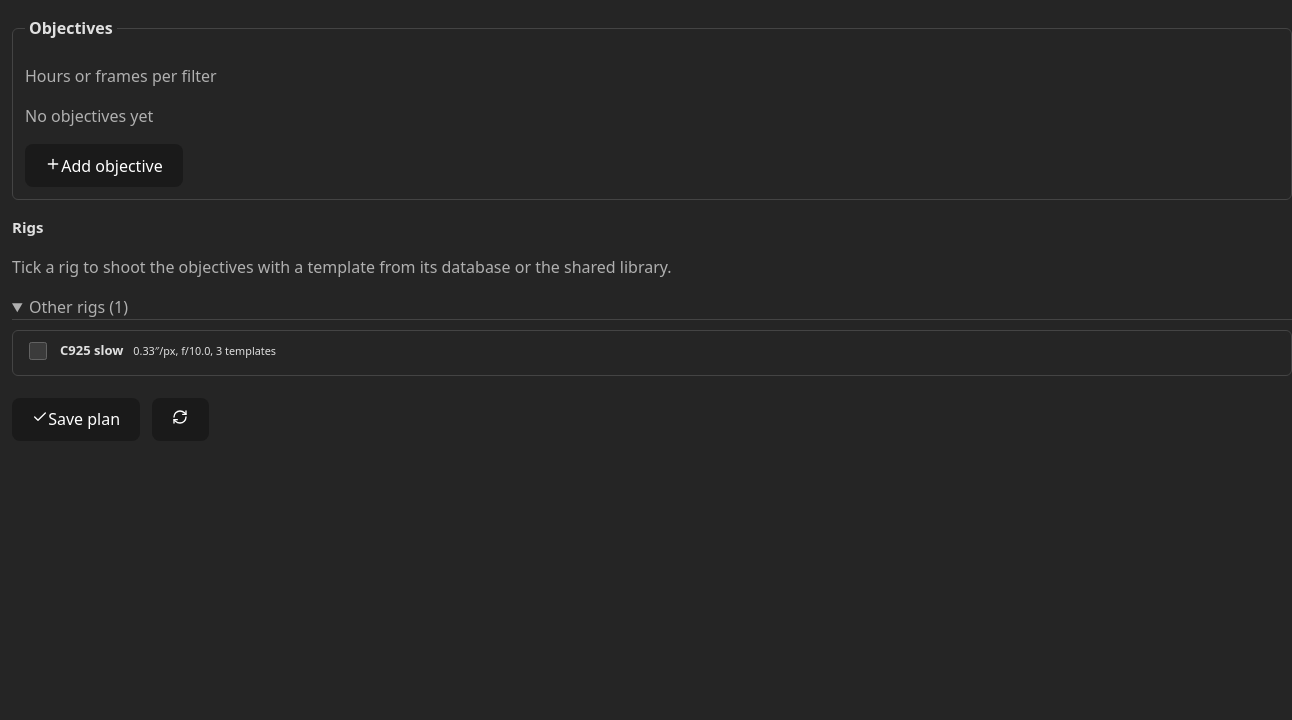
Test: Plan editor › lets a slow rig carry its own goal, with an f-ratio suggestion, and saves it
Expected: the text "0.33″/px, f/10.0, 3 templates" is shown, [133,343,276,359]
Click the button "Add objective" at (104, 166), box [25,144,183,187]
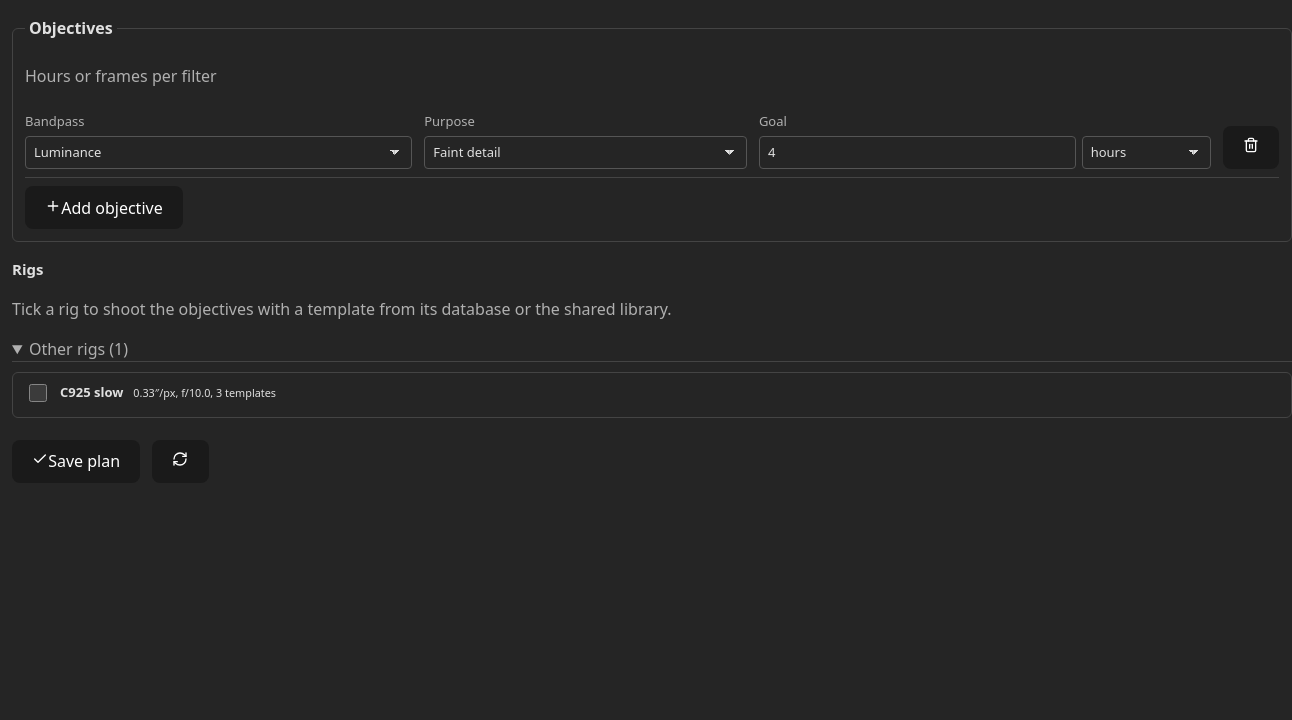
Select "H-alpha (narrowband)" in the dropdown named "Objective bandpass" at (219, 152), box [25,136,412,169]
Replace the text in the number field named "Objective goal" with "6" at (917, 152), box [759,136,1076,169]
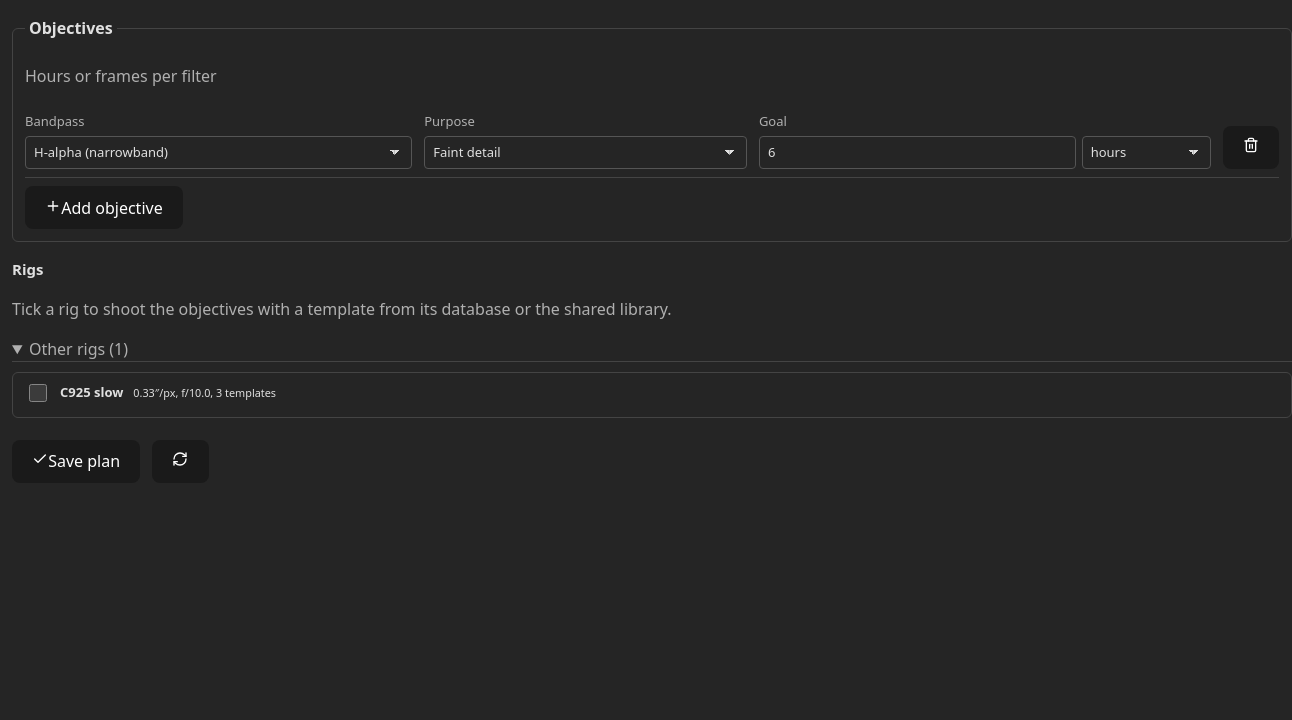
Click the checkbox labelled "C925 slow 0.33″/px, f/10.0, 3 templates" at (38, 393), box [29,384,47,402]
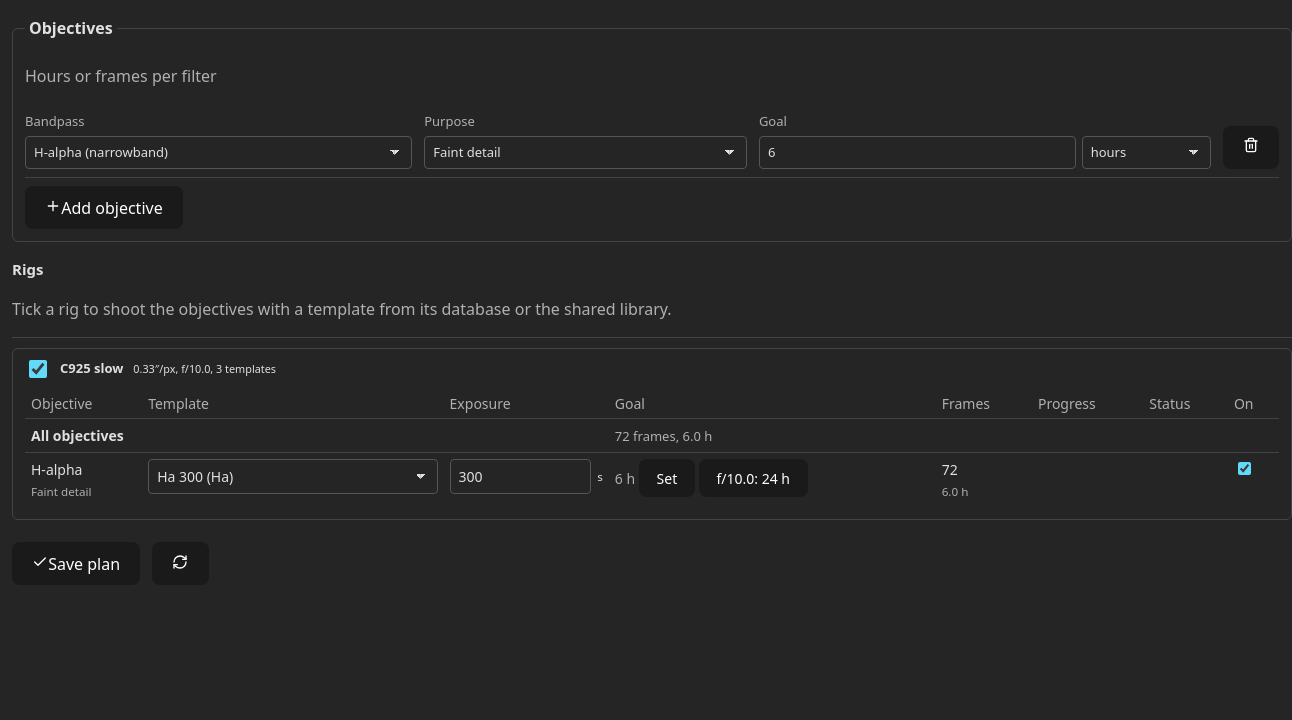
Now the element with test id "frames-redcat-h_alpha" shows "72", box [942,460,958,479]
Click the button "f/10.0: 24 h" at (753, 478), box [699,459,808,497]
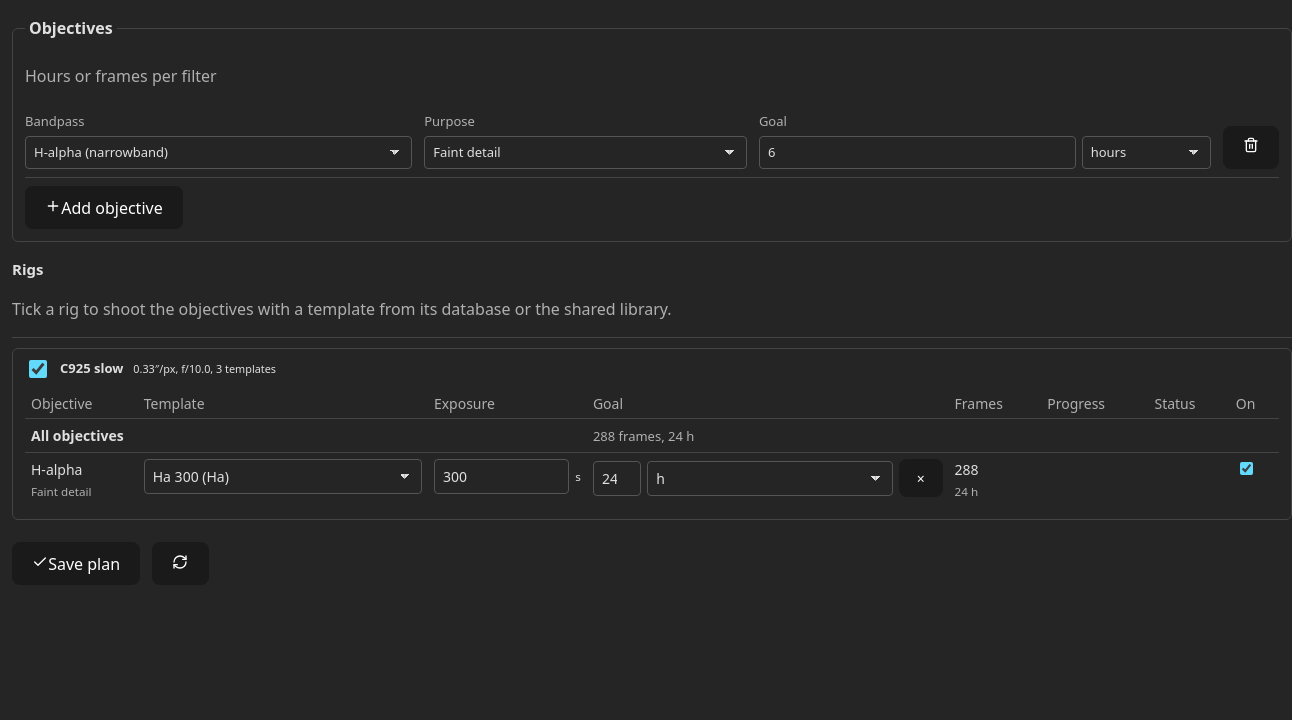
Now the number field named "C925 slow goal for H-alpha" holds "24", box [593,461,641,496]
Now the element with test id "frames-redcat-h_alpha" shows "288", box [955,460,979,479]
Now the text "288 frames, 24 h" is shown, box [593,427,694,445]
Click the button "Save plan" at (76, 564), box [12,542,140,585]
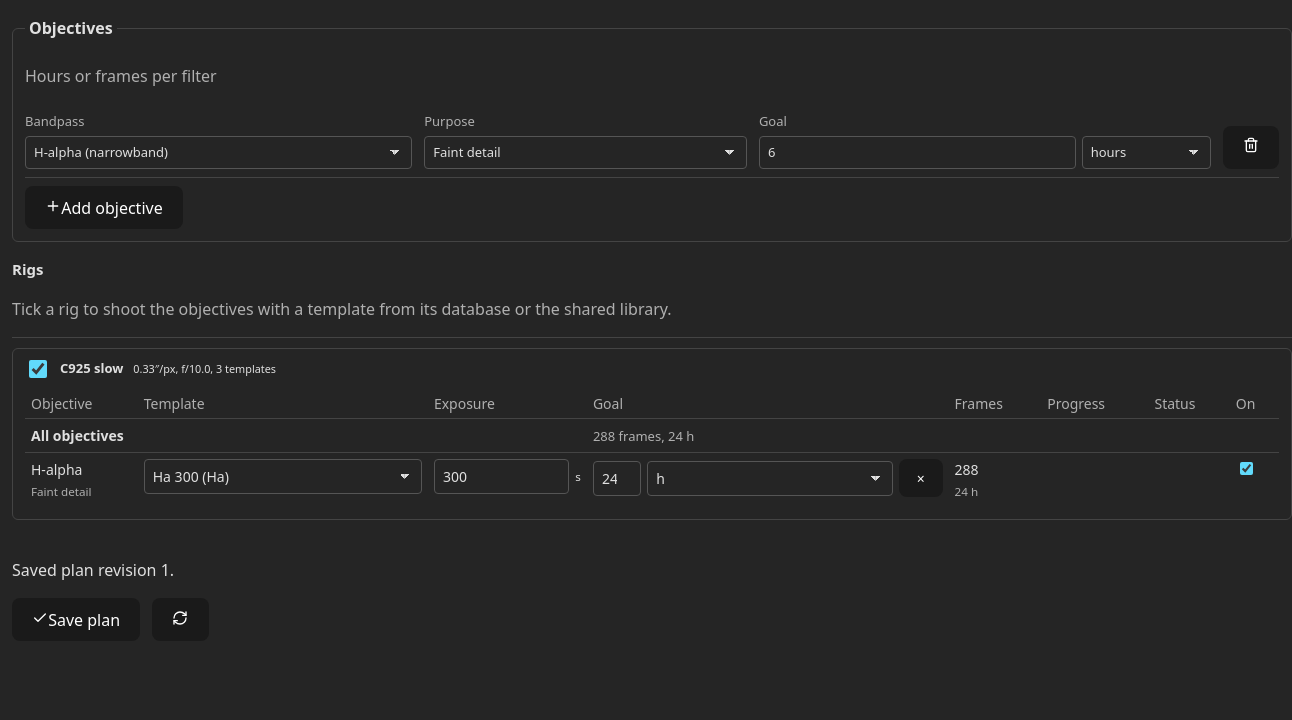
Back to the plan's goal.
Click the button named "C925 slow uses the plan's goal for H-alpha" at (921, 478), box [899,459,943,497]
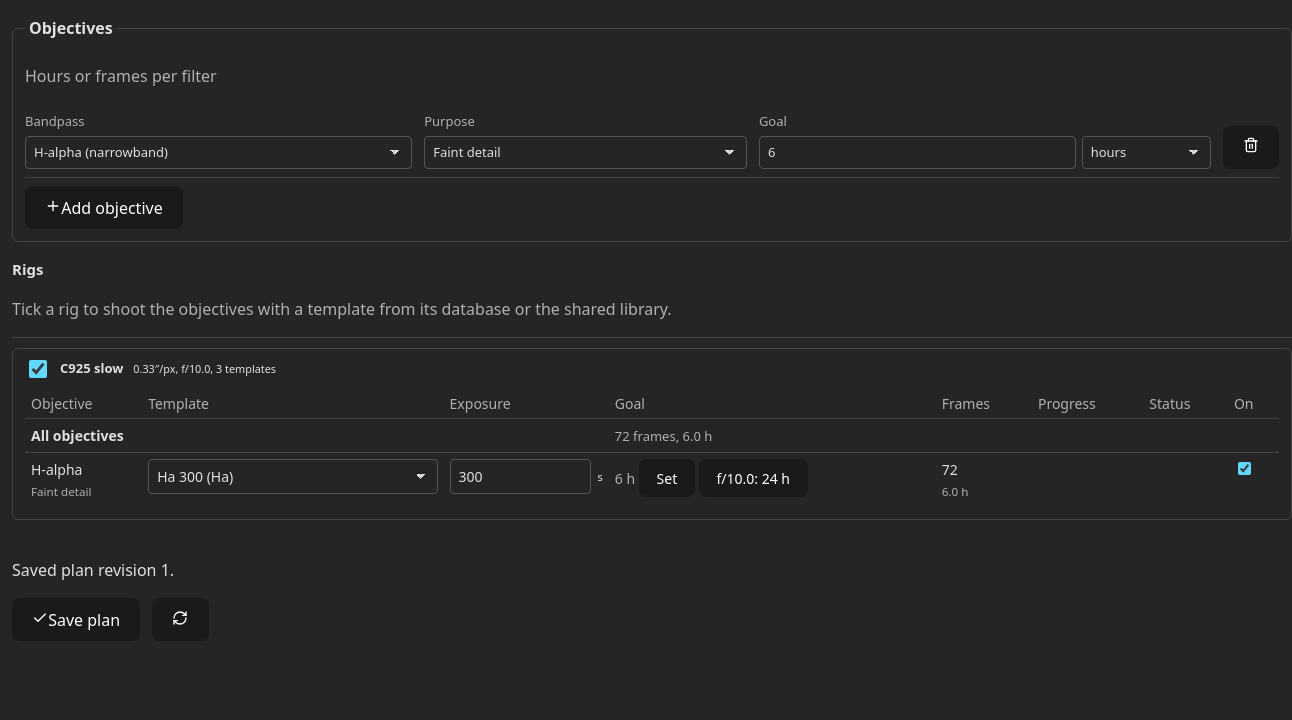
Now the element with test id "frames-redcat-h_alpha" shows "72", box [942,460,958,479]
